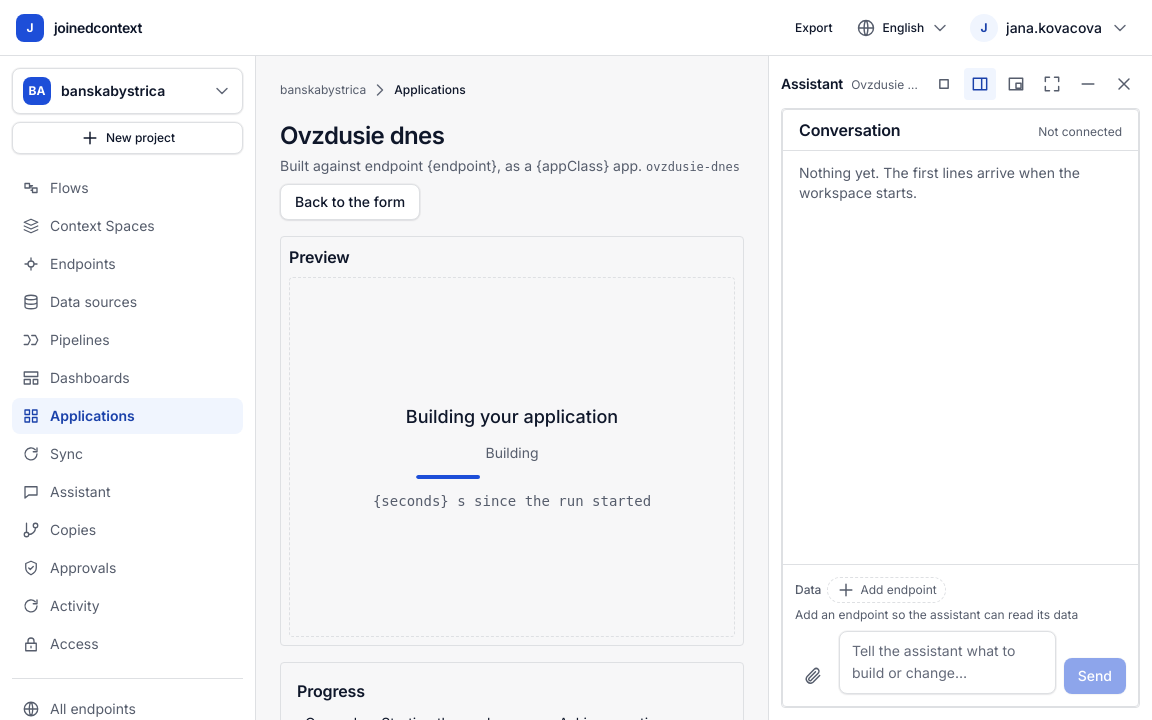
Test case: the assistant dock › hides to a bubble at the bottom right, opens full screen, stops the run and closes
The image size is (1152, 720).
Expected: the heading "Ovzdusie dnes" is shown, [280, 121, 444, 150]
Expected: the text with test id "assistant-app" reads "Ovzdusie dnes", [851, 77, 935, 92]
Click the button named "Full screen".
click(1052, 84)  # box [1036, 68, 1068, 100]
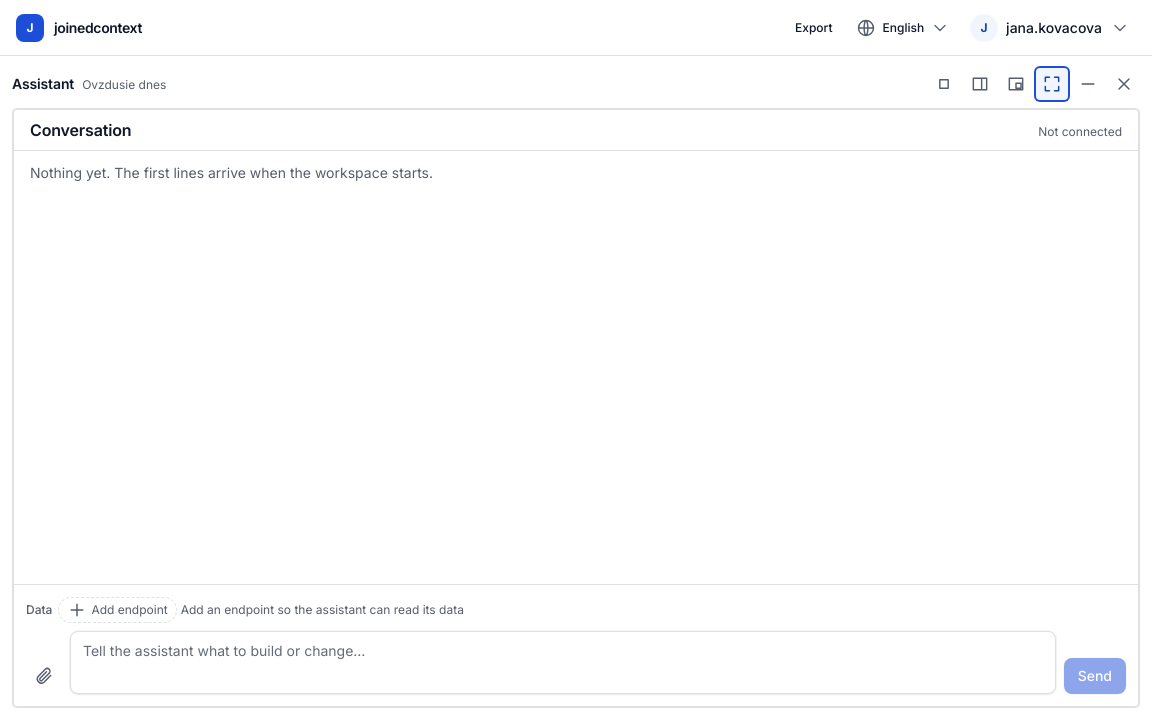
Expected: the element named "Hide the assistant" has class "fixed"
Click the button named "Beside the page".
click(980, 84)  # box [964, 68, 996, 100]
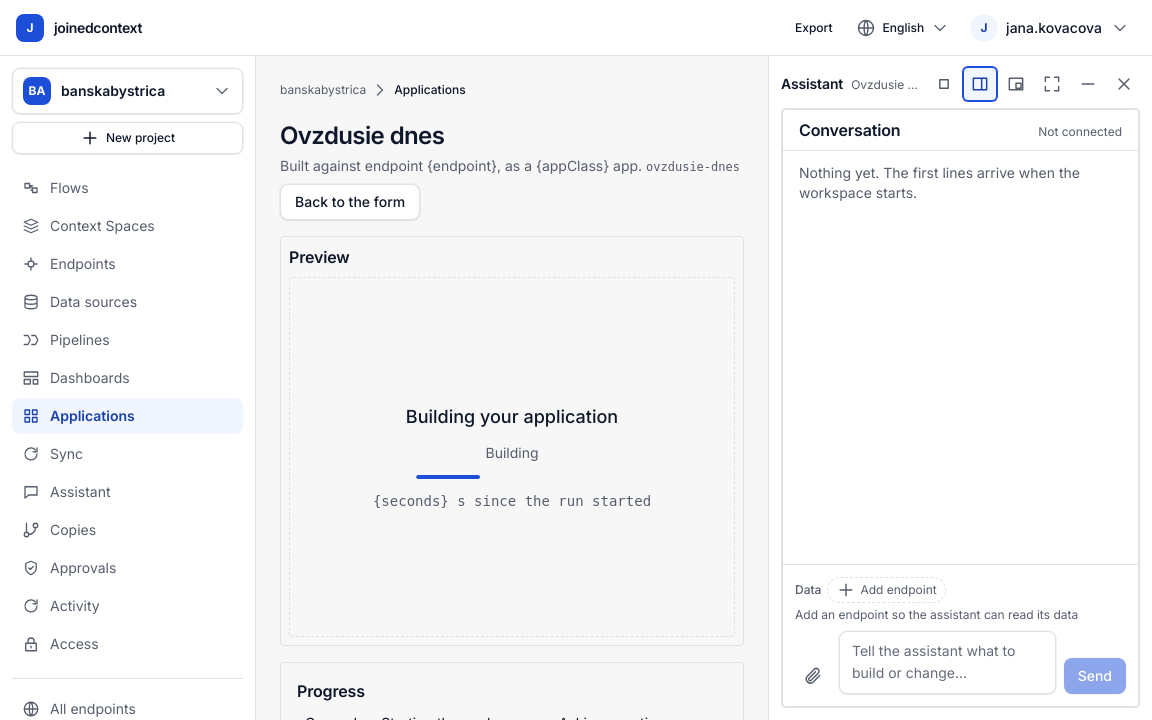
Click the button named "Hide the assistant".
click(1088, 84)  # box [1072, 68, 1104, 100]
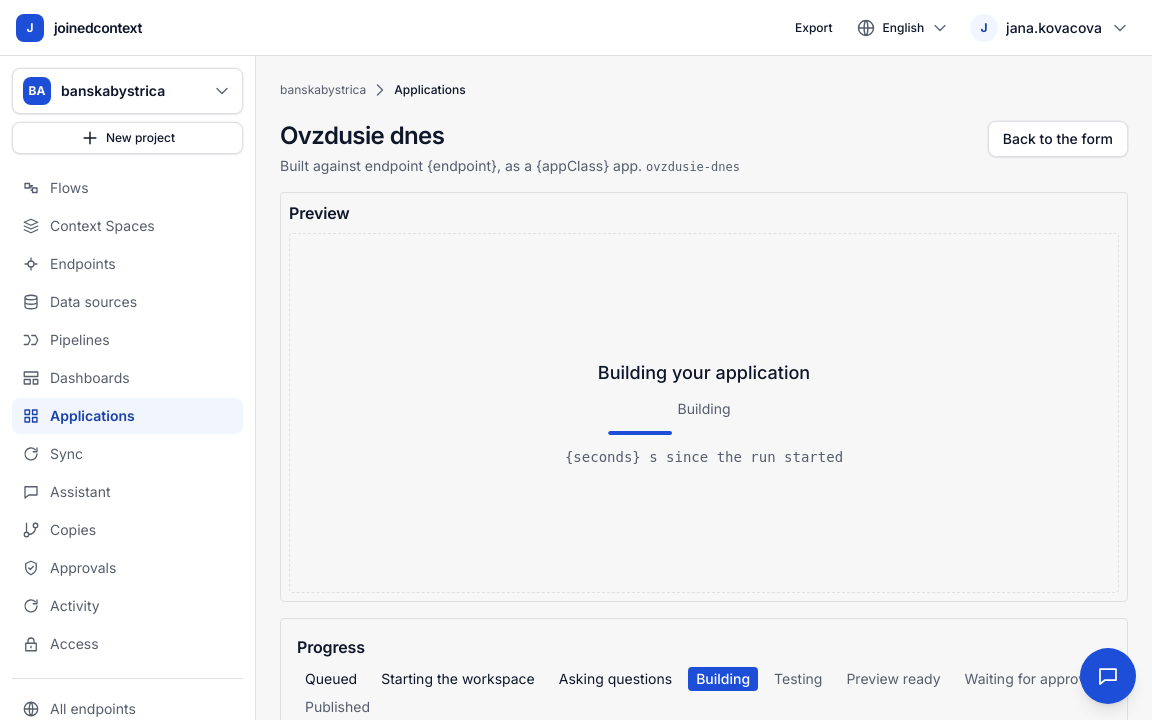
Click the button named "Open the assistant".
click(1108, 676)  # box [1080, 648, 1136, 704]
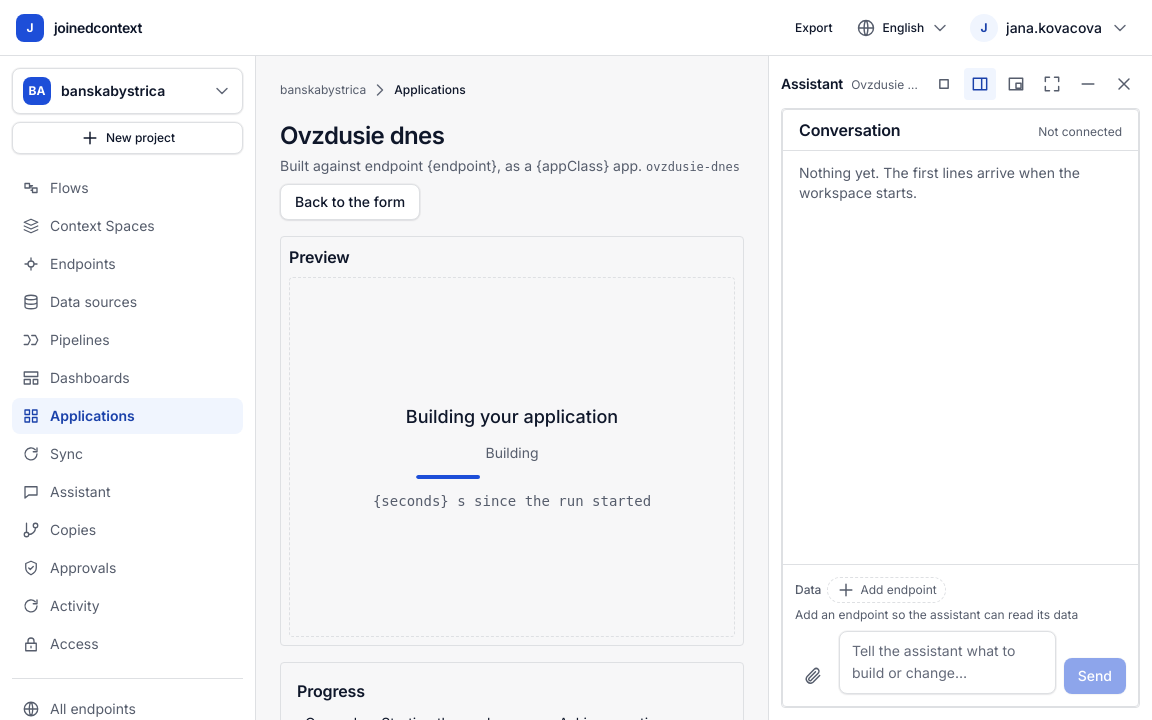
Click the button named "Stop the assistant".
click(944, 84)  # box [928, 68, 960, 100]
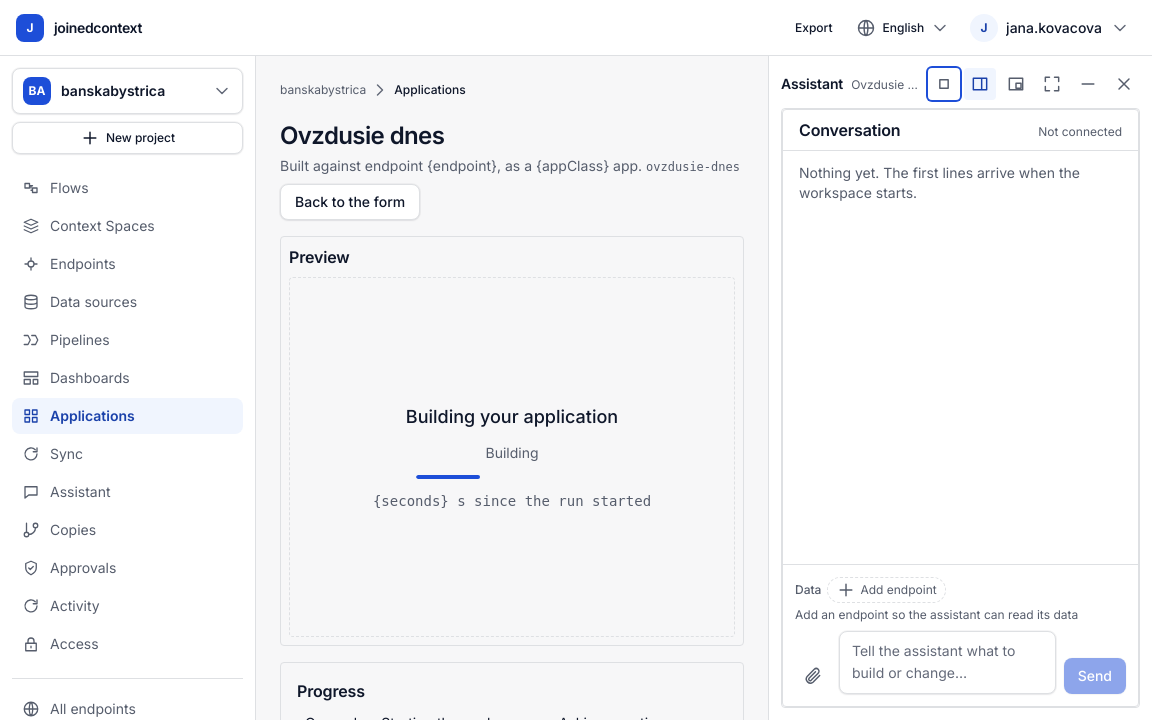
Click the button named "Close the assistant".
click(1124, 84)  # box [1108, 68, 1140, 100]
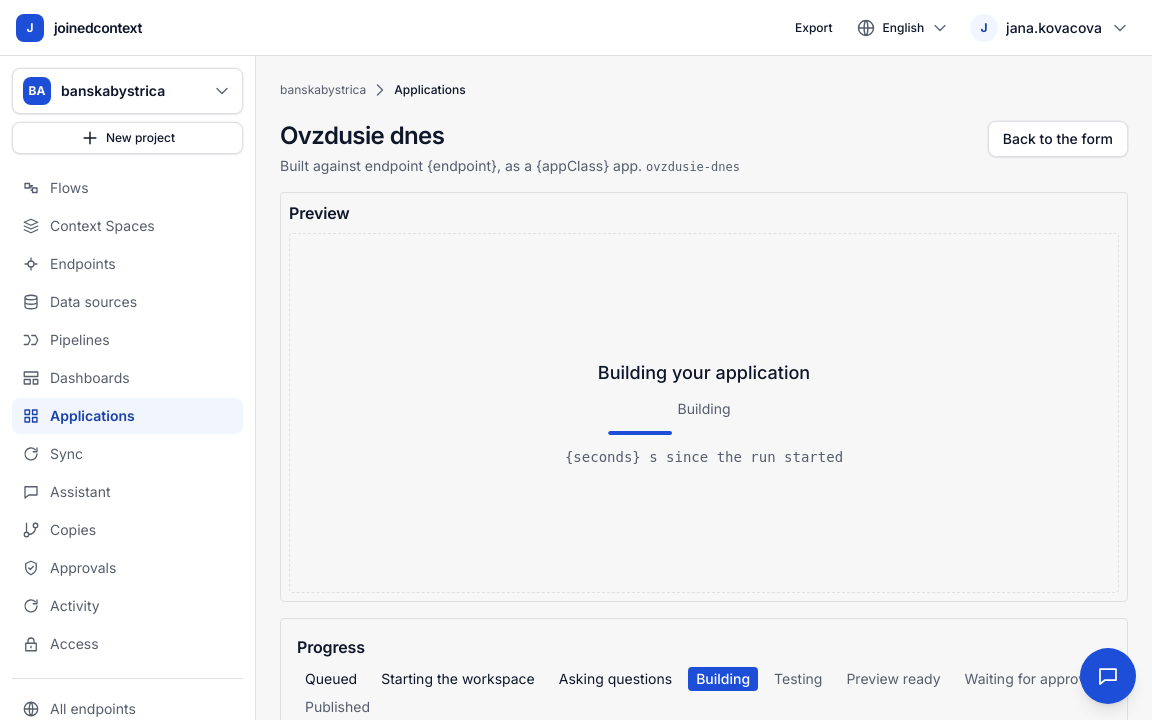
Expected: the button named "Open the assistant" is shown, [1080, 648, 1136, 704]
